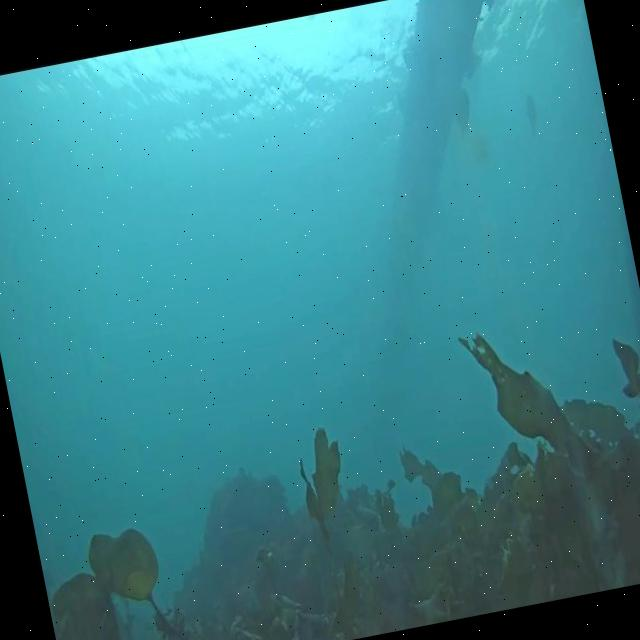fish: (446, 84, 479, 145), (521, 88, 543, 132)
